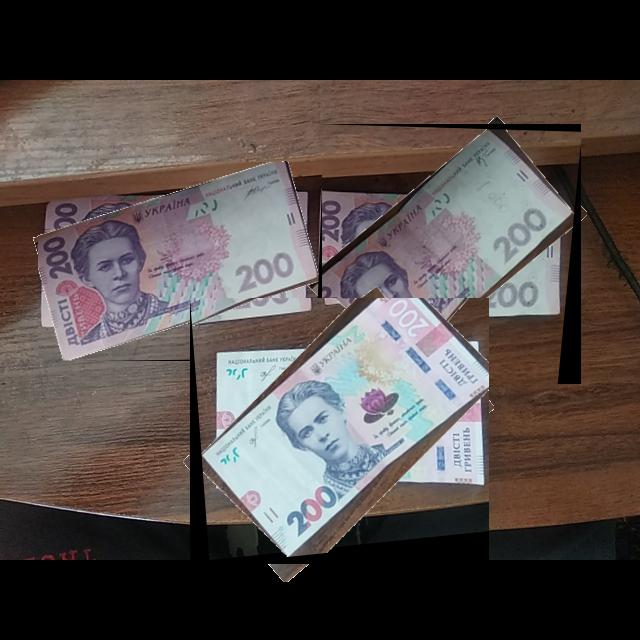200uah: (200, 298, 490, 559), (316, 129, 576, 385), (38, 162, 320, 362)
